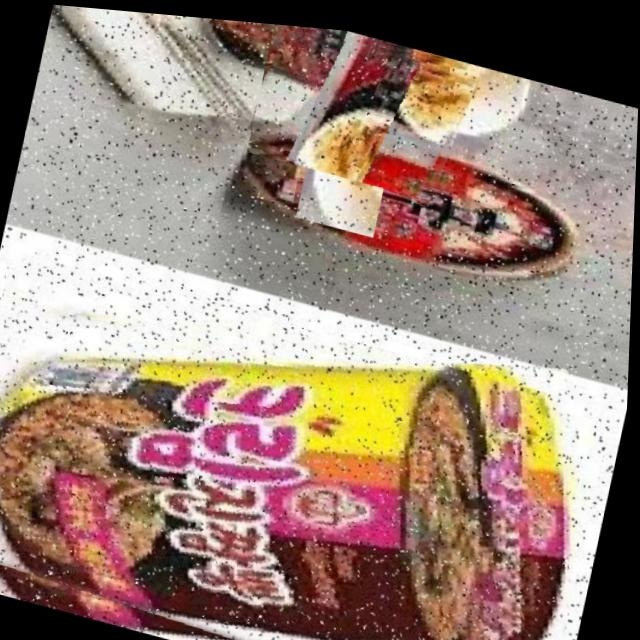Miscellaneous: (0, 247, 618, 640), (245, 18, 475, 198)
